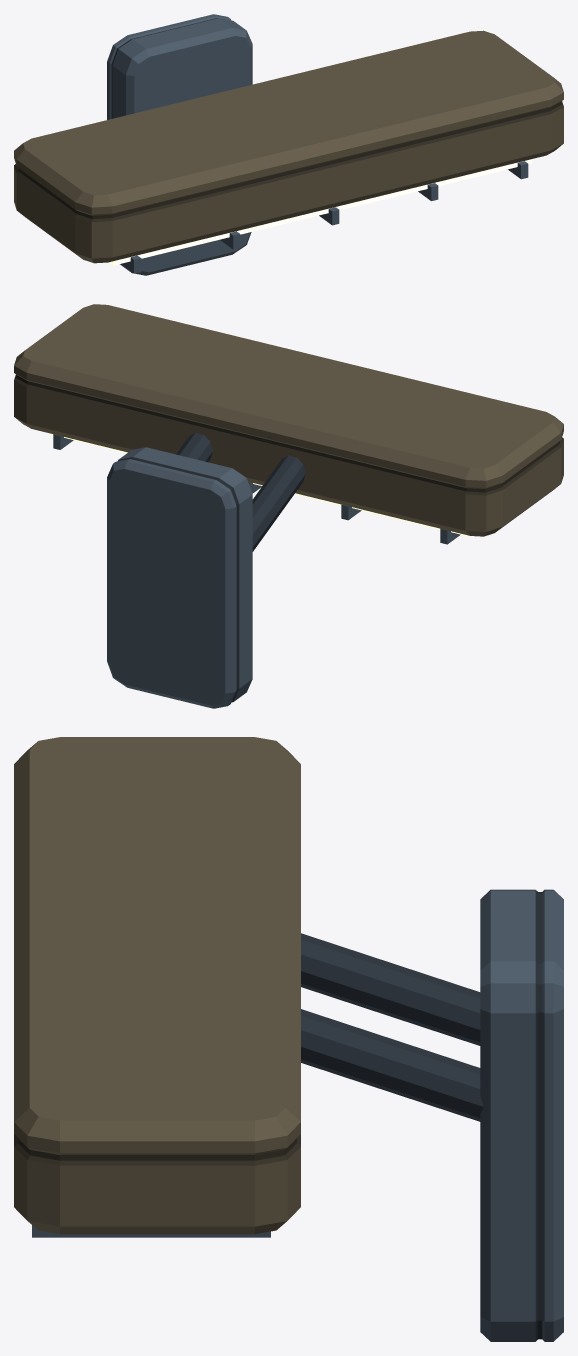
The model's file is HV-05_loading_sconce.glb.
3 views of the same model, one above another, from view 1: azimuth 30°, elevation 25°; view 2: azimuth 150°, elevation 25°; view 3: azimuth 270°, elevation 25° (orthographic). The views are drawn at different scales.
Visible parts, largest first — view 1: HV-05_loading_sconce; view 2: HV-05_loading_sconce; view 3: HV-05_loading_sconce.
Part boxes in pixels (x1,y1,x2,y2): HV-05_loading_sconce: [14, 14, 563, 275]; HV-05_loading_sconce: [14, 304, 563, 708]; HV-05_loading_sconce: [14, 737, 563, 1341].
Size of the model in its own units: 1.57 by 0.7 by 0.92.
